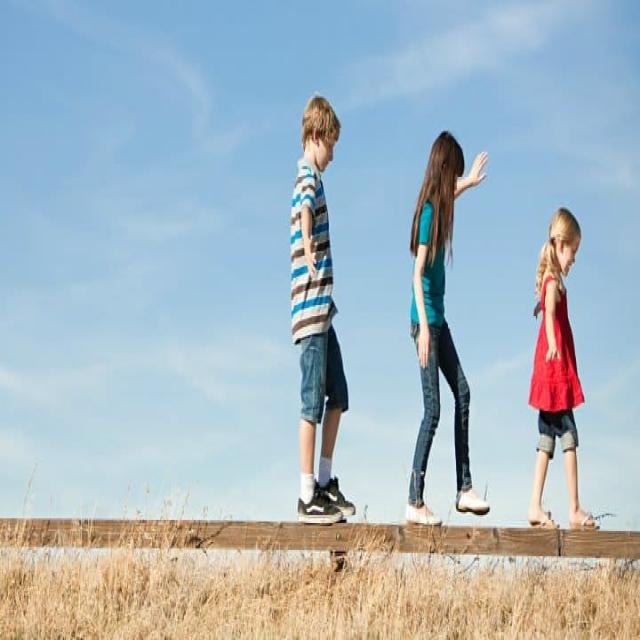Person: (408, 130, 489, 523), (290, 94, 356, 521), (528, 207, 600, 532)
